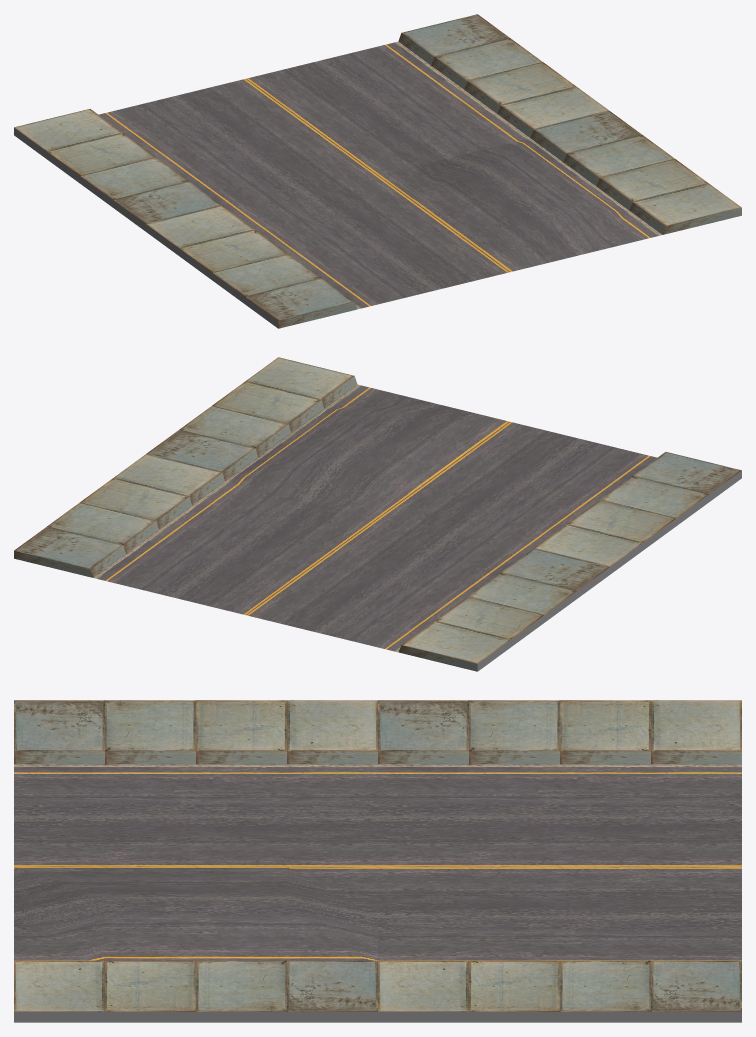
The model's file is bump.FBX.
3 views of the same model, one above another, from view 1: azimuth 30°, elevation 25°; view 2: azimuth 150°, elevation 25°; view 3: azimuth 270°, elevation 25° (orthographic). The views are drawn at different scales.
Visible parts, largest first — view 1: Plane003, Plane002, Plane004, Plane001; view 2: Plane002, Plane003, Plane001, Plane004; view 3: Plane001, Plane004, Plane002, Plane003.
Part boxes in pixels (x1,y1,x2,y2): Plane003: [378, 111, 741, 271]; Plane002: [246, 14, 609, 175]; Plane004: [146, 175, 509, 328]; Plane001: [14, 79, 377, 231]; Plane002: [14, 454, 377, 614]; Plane003: [146, 357, 509, 518]; Plane001: [246, 518, 609, 671]; Plane004: [378, 422, 741, 574]; Plane001: [378, 700, 741, 866]; Plane004: [14, 700, 377, 866]; Plane002: [378, 867, 741, 1022]; Plane003: [14, 867, 377, 1022].
Size of the model in its own units: 608 by 17.75 by 600.
